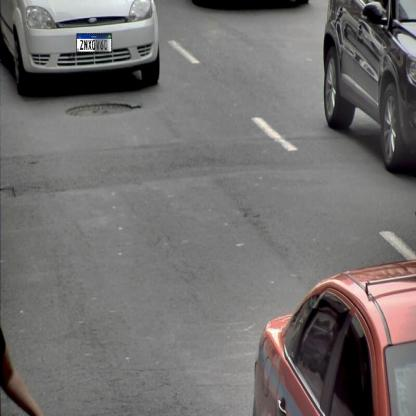PlacaM: (76, 33, 112, 53)
